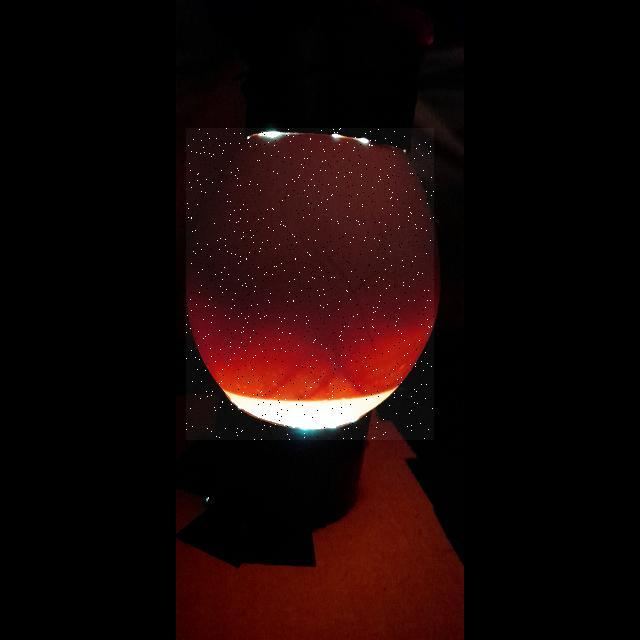Fertile: (186, 128, 434, 440)
